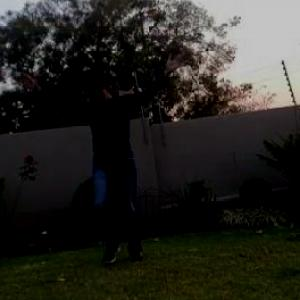takeoff: (16, 58, 184, 274)
